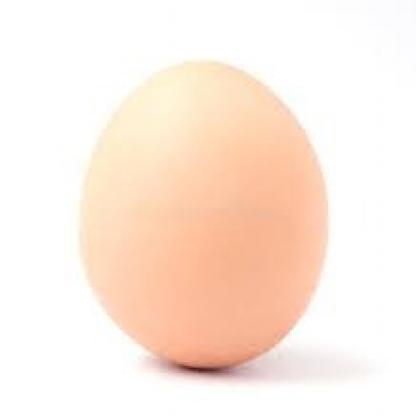egg: (77, 53, 330, 372)
